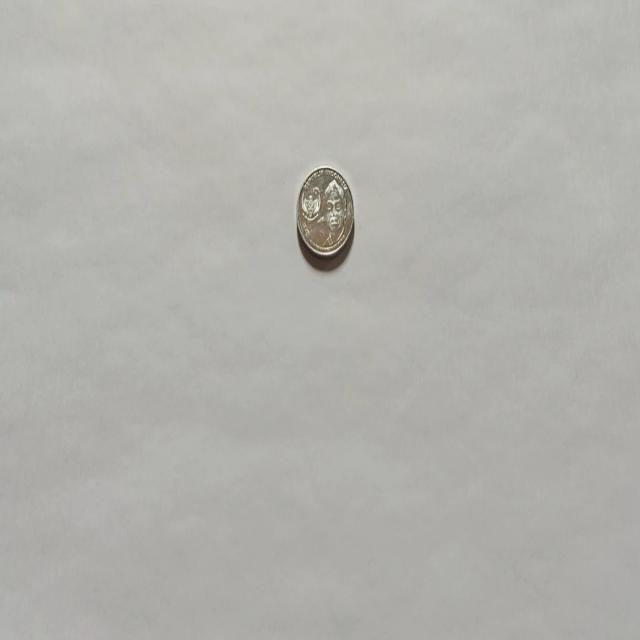dua ratus rupiah: (296, 164, 354, 260)
